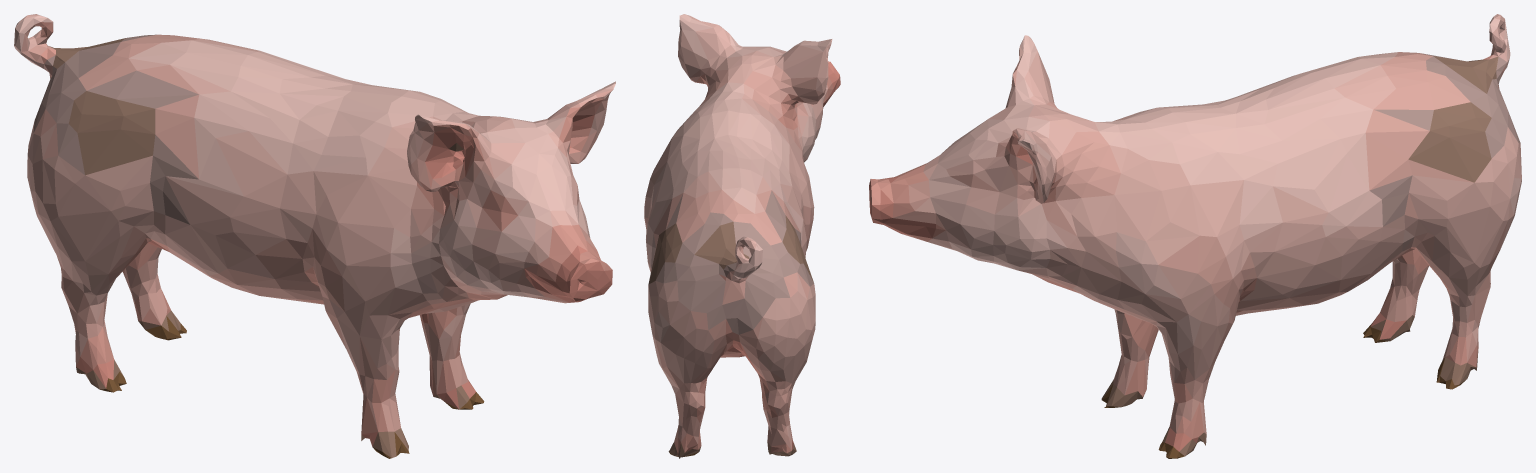
File: low-poly-pig.glb
3 views of the same model, side by side, from view 1: azimuth 30°, elevation 25°; view 2: azimuth 150°, elevation 25°; view 3: azimuth 270°, elevation 25° (orthographic). The views are drawn at different scales.
Parts seen in each view (by area): view 1: low-poly-pig; view 2: low-poly-pig; view 3: low-poly-pig.
Part boxes in pixels (x1,y1,x2,y2): low-poly-pig: [14, 14, 615, 458]; low-poly-pig: [644, 14, 840, 458]; low-poly-pig: [869, 14, 1521, 458].
Bounding box in the file's own units: 0.8836 × 0.8526 × 1.4.
1 material, 1 textured.
